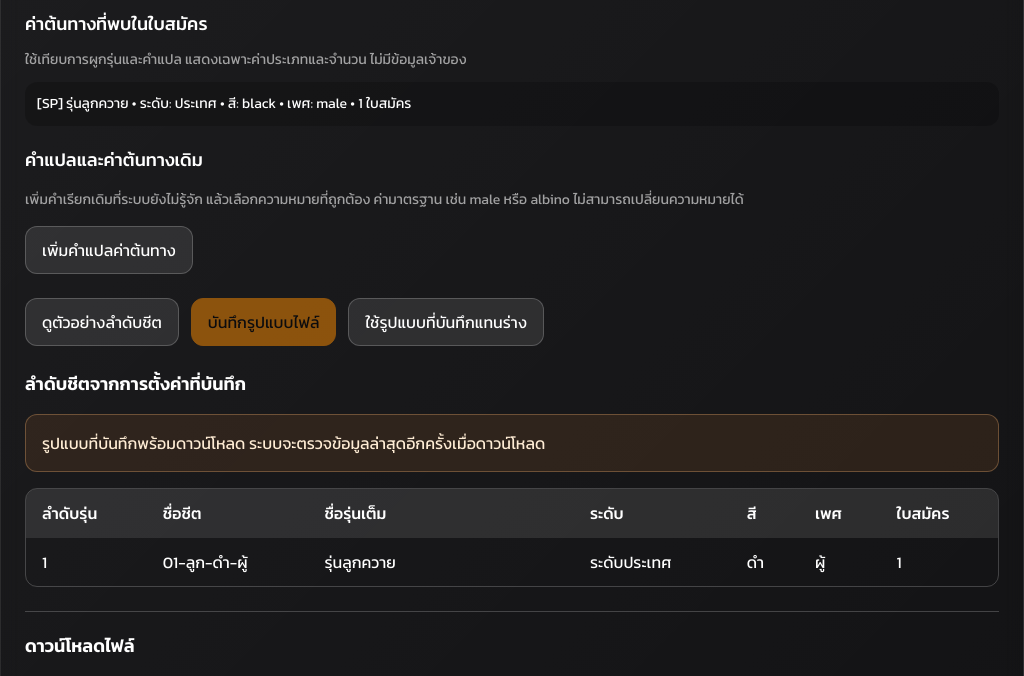
Test: invalidates a previous preview after edits and validates Thai names before requesting preview
The image size is (1024, 676).
(page scrolled)
Click the button "ดูตัวอย่างลำดับชีต".
click(102, 322)  # box [25,298,179,346]
(page scrolled)
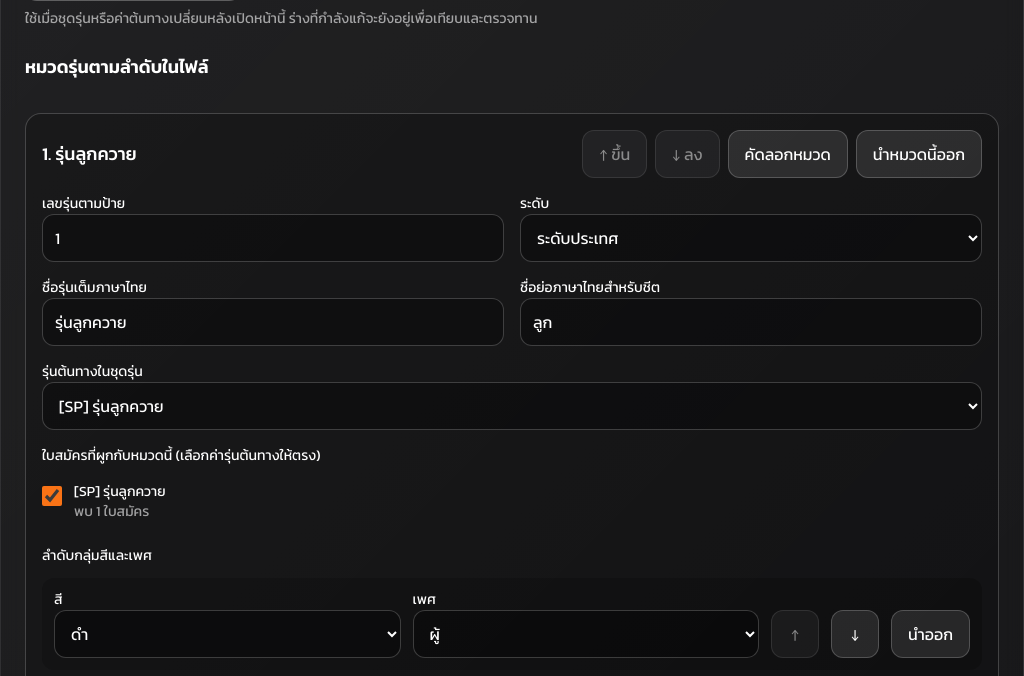
Replace the text in the field labelled "ชื่อรุ่นเต็มภาษาไทย" with "English class" at (273, 322), box [42,298,504,346]
(page scrolled)
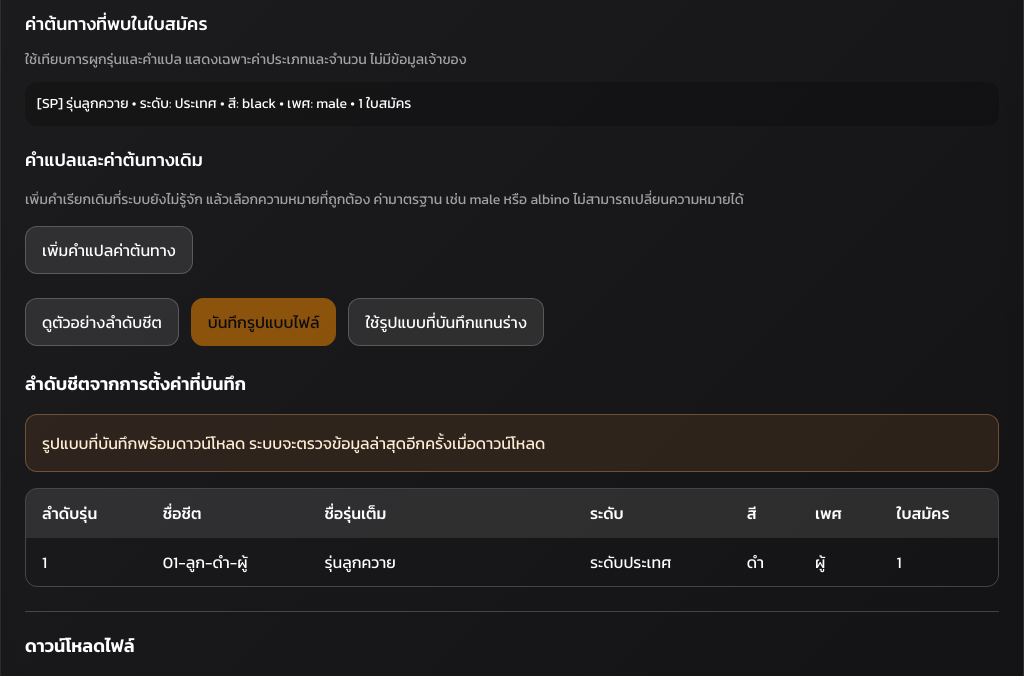
Now the button "บันทึกรูปแบบไฟล์" is disabled, box [191,298,336,346]
Click the button "ดูตัวอย่างลำดับชีต".
click(102, 322)  # box [25,298,179,346]
(page scrolled)
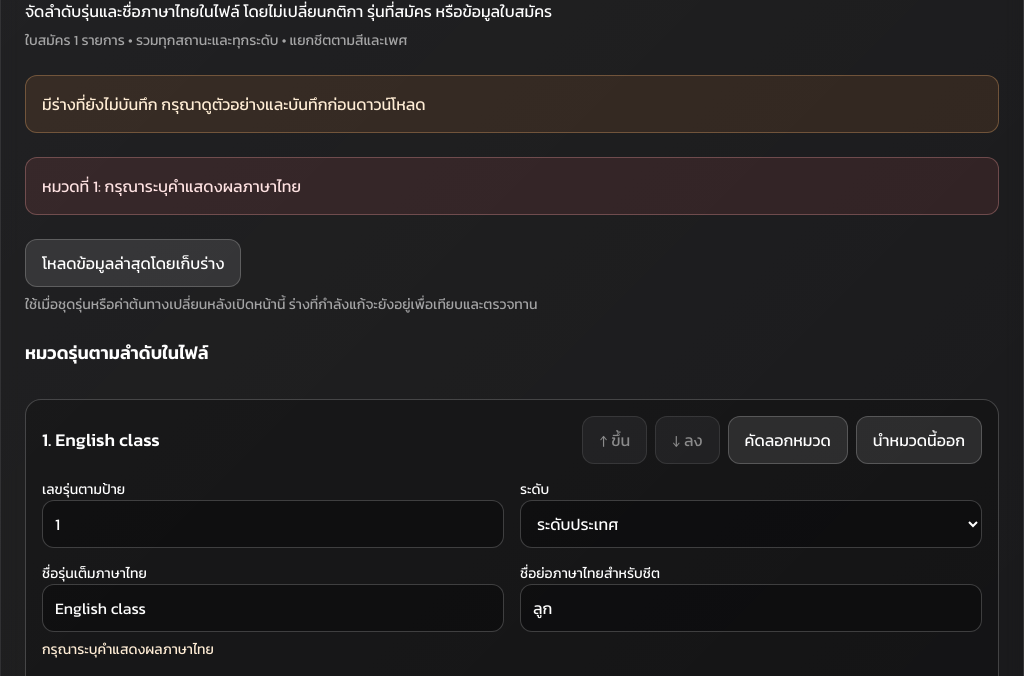
Now the message "หมวดที่ 1: กรุณาระบุคำแสดงผลภาษาไทย" is shown, box [25,157,999,215]
